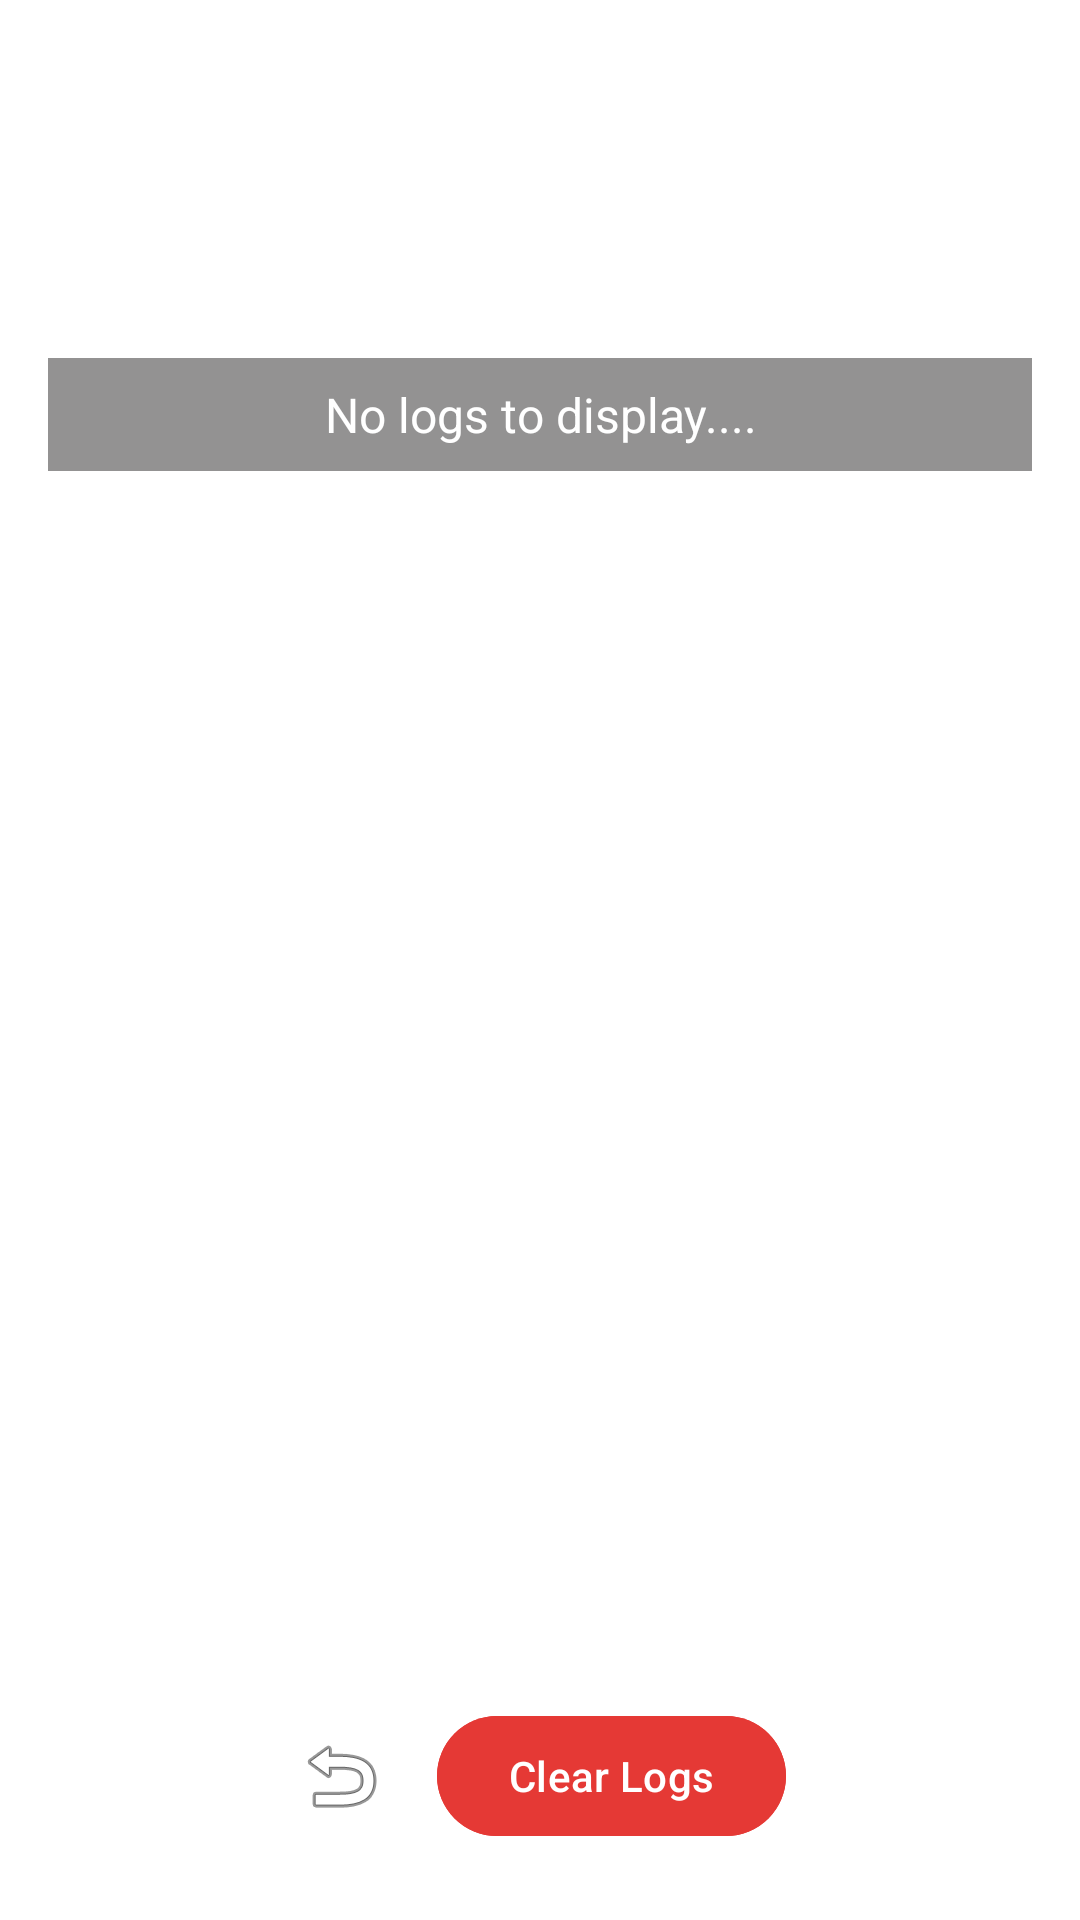

Locate icon controls on the screen. Image size 1080x1920, boxes as (x1, y1, x2, y2).
Back: (308, 1745, 377, 1808)
